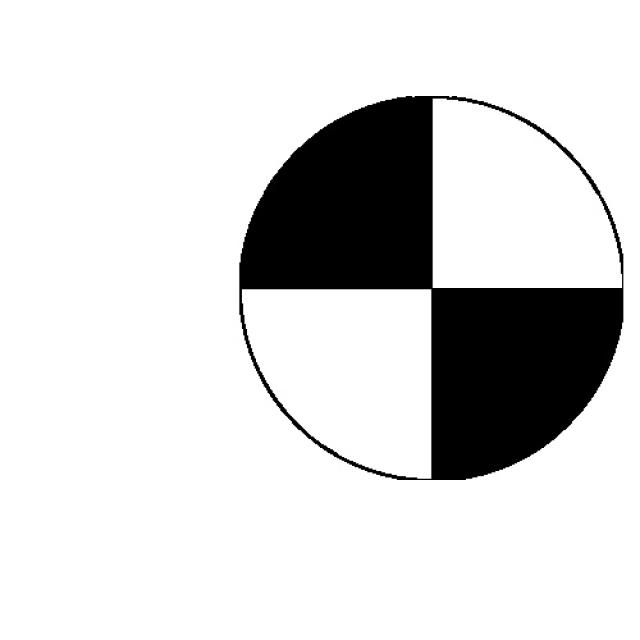Marcadores: (240, 96, 624, 485)
